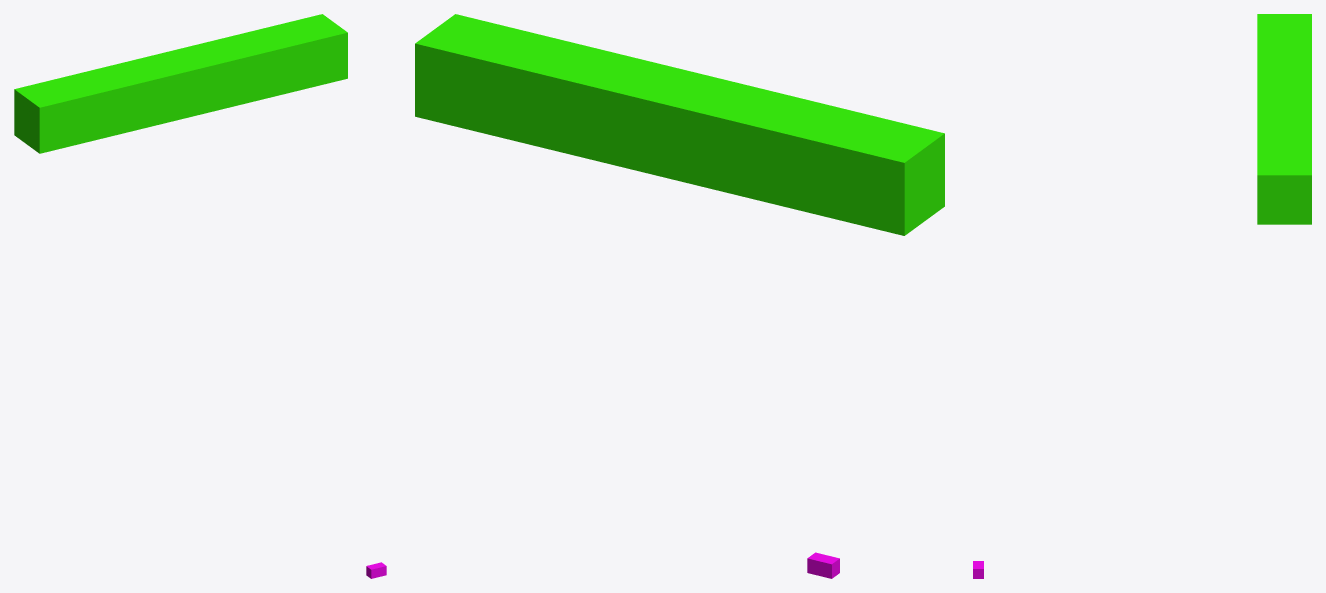
Rendered from BothHandObject_PositionFinal.gltf.
The picture shows the model from 3 angles, left to right: view 1: azimuth 30°, elevation 25°; view 2: azimuth 150°, elevation 25°; view 3: azimuth 270°, elevation 25°; orthographic projection. The views are drawn at different scales.
Visible parts, largest first — view 1: BothHandObject_PositionFinal; view 2: BothHandObject_PositionFinal, BothHandObject_PF_WalkTarget; view 3: BothHandObject_PositionFinal.
Boxes of the visible parts, box(x1,y1,x2,y2) form: BothHandObject_PositionFinal: box(14, 14, 347, 153); BothHandObject_PositionFinal: box(415, 14, 944, 235); BothHandObject_PF_WalkTarget: box(807, 552, 839, 578); BothHandObject_PositionFinal: box(1257, 14, 1311, 224).
Size of the model in its own units: 0.7 by 0.917 by 0.622.
